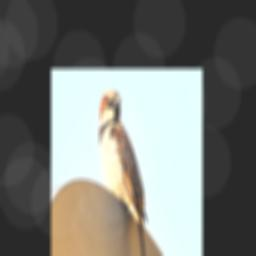Swallow: (98, 89, 147, 256)
